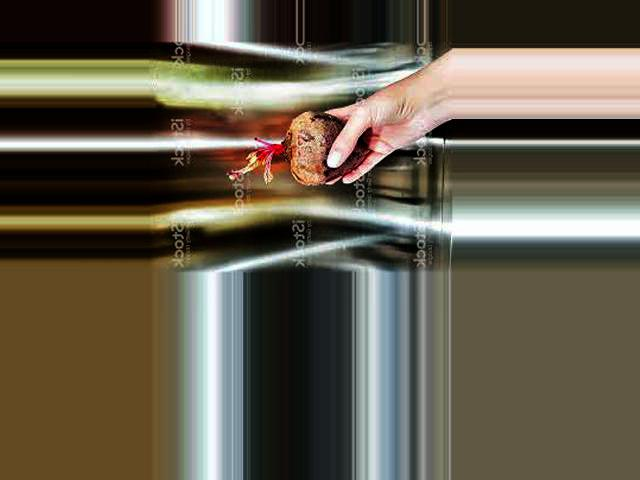beet: (230, 112, 368, 186)
